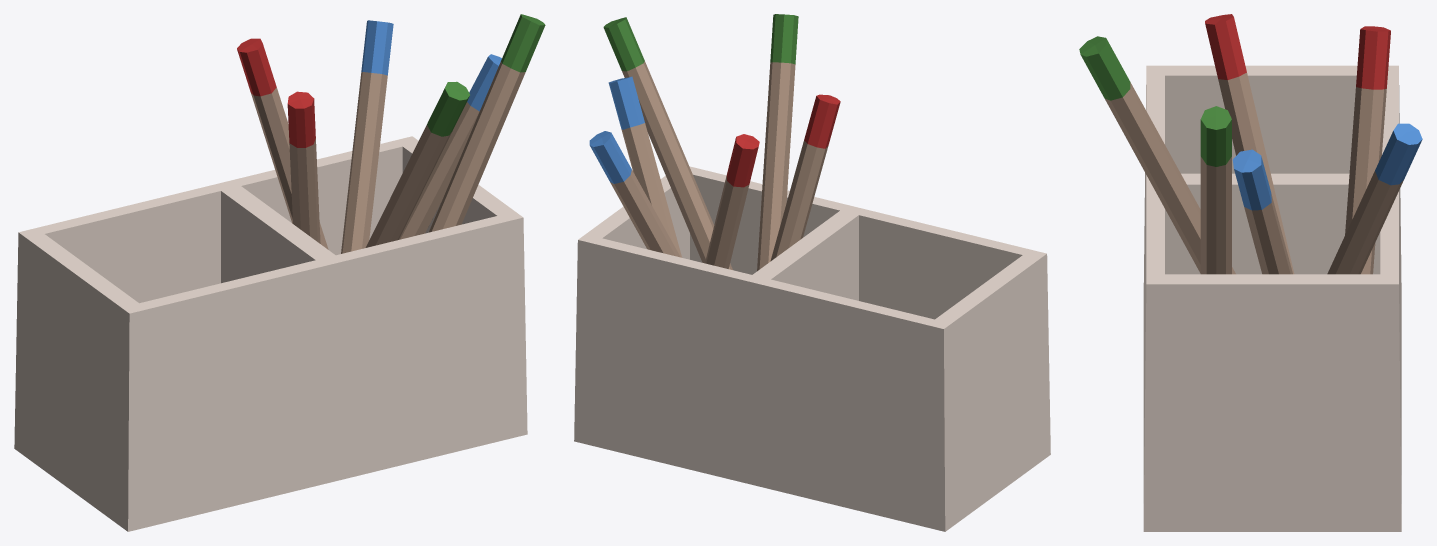
Rendered from Stand_with_pencils.fbx.
3 views of the same model, side by side, from view 1: azimuth 30°, elevation 25°; view 2: azimuth 150°, elevation 25°; view 3: azimuth 270°, elevation 25° (orthographic). The views are drawn at different scales.
Parts seen in each view (by area): view 1: Stand_with_pencils; view 2: Stand_with_pencils; view 3: Stand_with_pencils.
Part boxes in pixels (bbox=[...]): Stand_with_pencils: bbox=[14, 14, 545, 531]; Stand_with_pencils: bbox=[574, 14, 1050, 531]; Stand_with_pencils: bbox=[1079, 14, 1422, 531].
Bounding box in the file's own units: 26.22 × 15.34 × 21.73.
